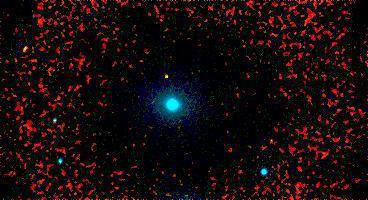star: (150, 62, 180, 92)
